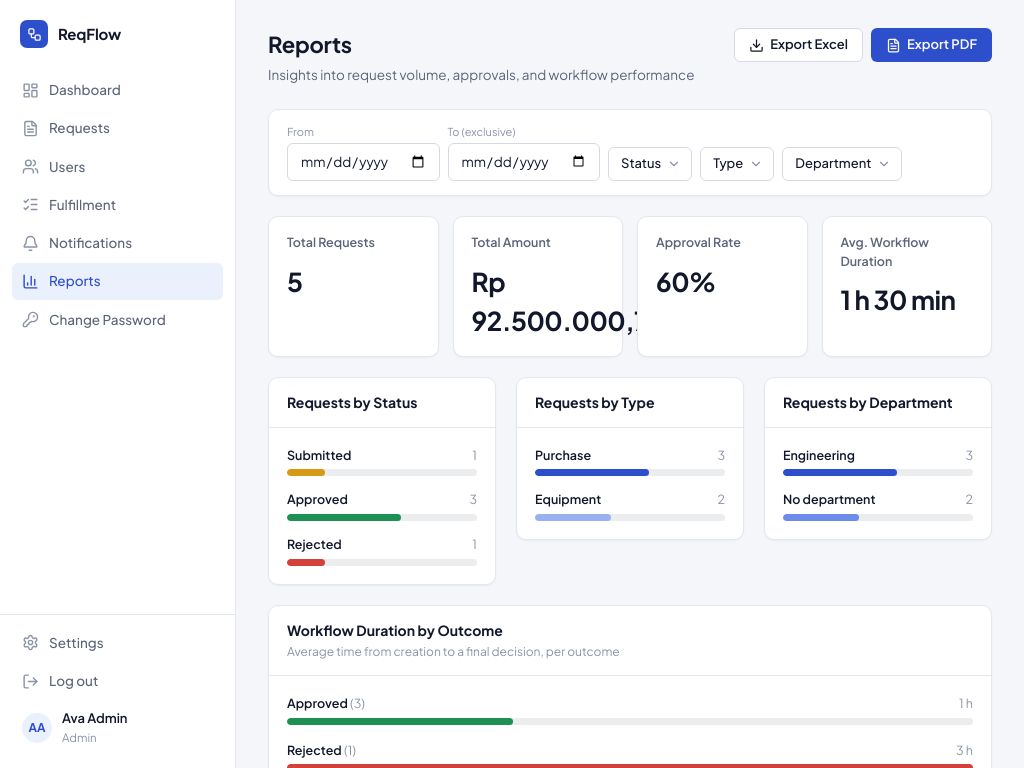
Scenario: ReportsPage › disables both export buttons while a PDF is being generated
Check: the text "Total Requests" is shown, box [287, 233, 375, 252]
Click the button "Export PDF" at (932, 45), box [871, 28, 992, 62]
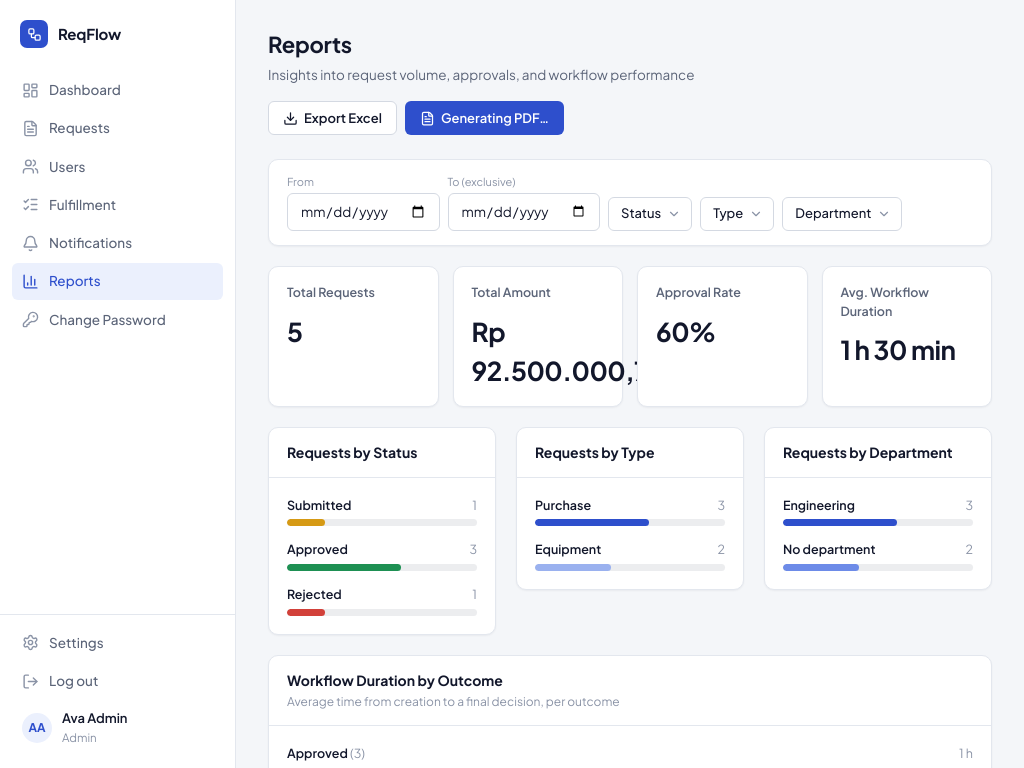
Check: the button "Generating PDF…" is disabled, box [405, 101, 564, 135]
Check: the button "Export Excel" is disabled, box [268, 101, 397, 135]
